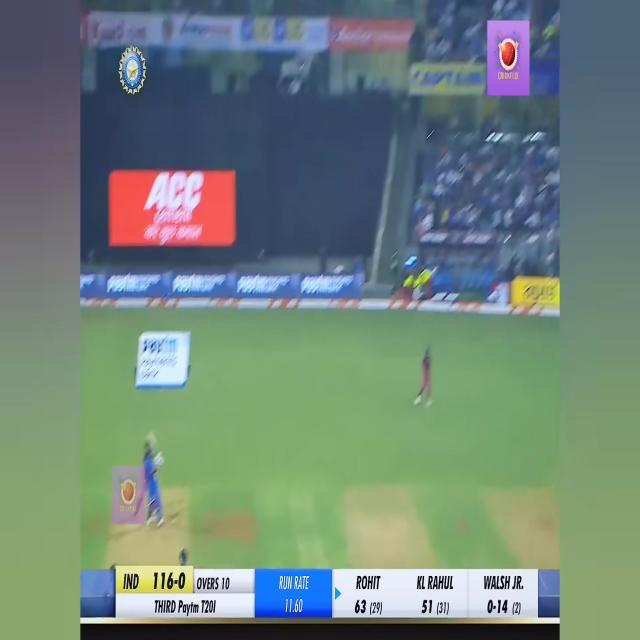fully_visible: (176, 590, 202, 622)
partially_visible: (139, 333, 181, 357)
